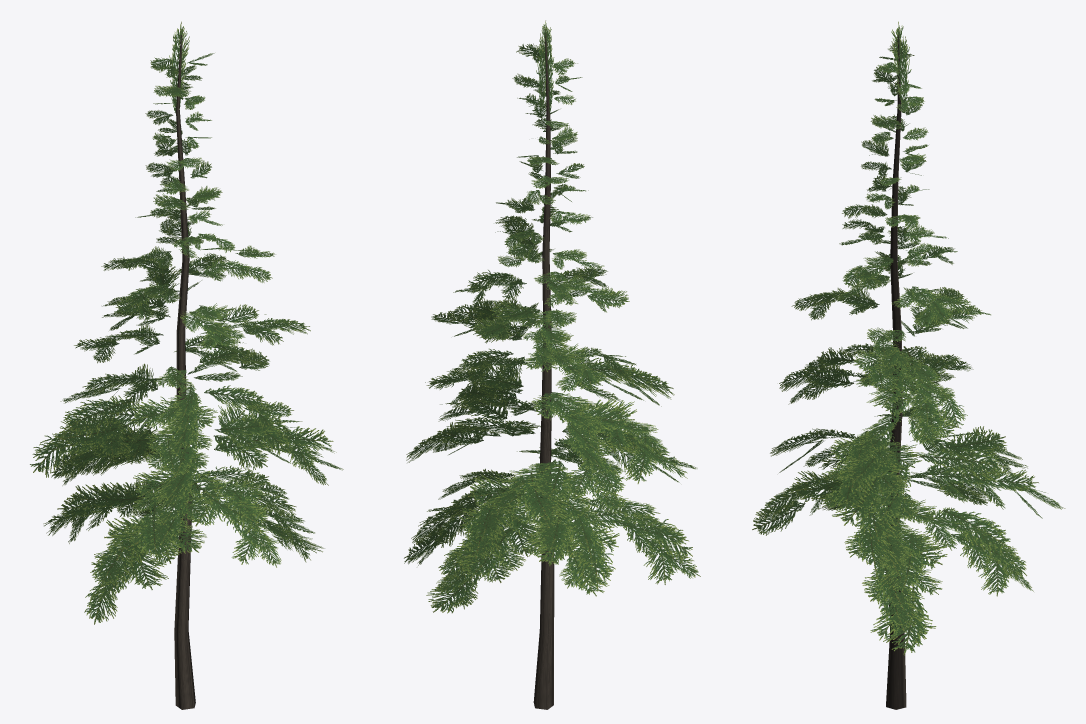
The model's file is mid.glb.
3 renders of one model, left to right at view 1: azimuth 30°, elevation 25°; view 2: azimuth 150°, elevation 25°; view 3: azimuth 270°, elevation 25°, orthographic.
Visible parts, largest first — view 1: spruce_03; view 2: spruce_03; view 3: spruce_03.
Part boxes in pixels (left/top/right/bottom): spruce_03: left=30, top=21, right=343, bottom=709; spruce_03: left=404, top=20, right=700, bottom=709; spruce_03: left=752, top=21, right=1065, bottom=709.
Bounding box in the file's own units: 6.42 × 13.98 × 6.11.
2 materials, 2 textured.
